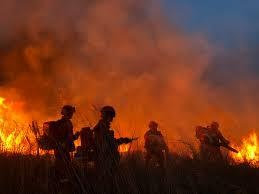fire: (227, 123, 258, 164), (118, 142, 130, 152)
